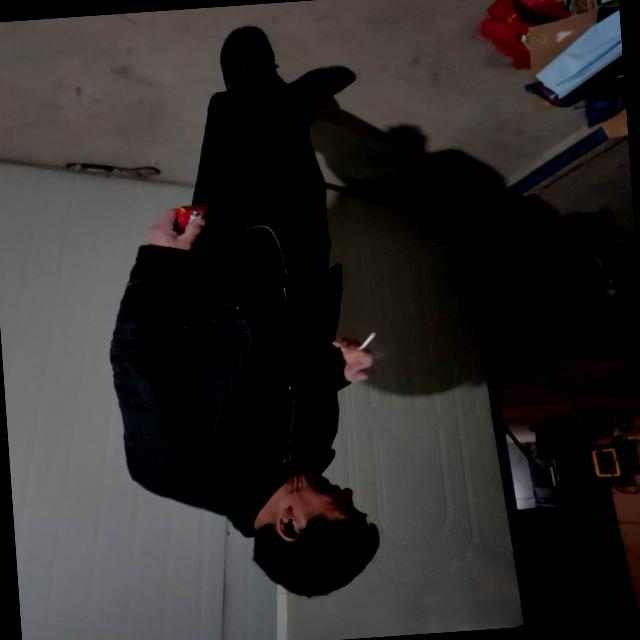smoke: (351, 323, 389, 358)
